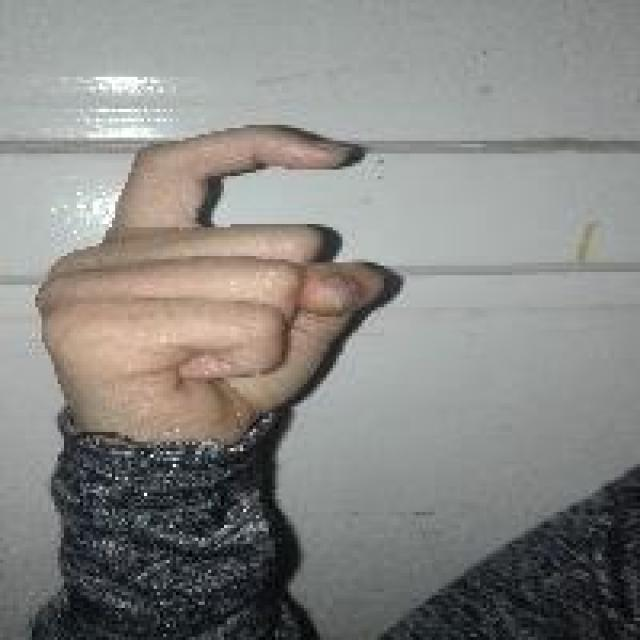X: (35, 116, 397, 438)
